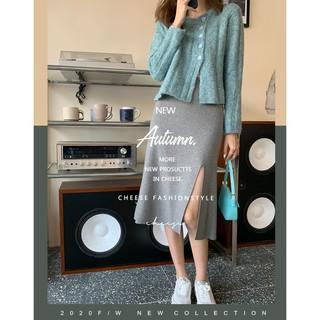shirt: (151, 3, 265, 140)
skirt: (137, 77, 239, 245)
